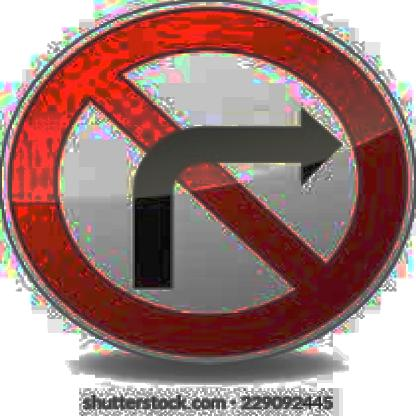No right turn: (0, 0, 416, 367)
